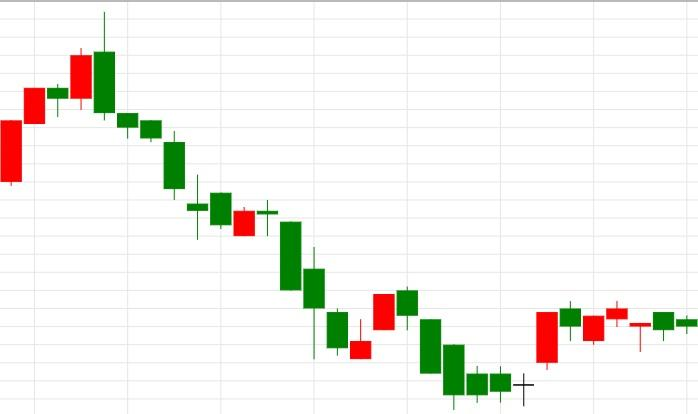bearish_engulfing_fall: (0, 11, 116, 187)
